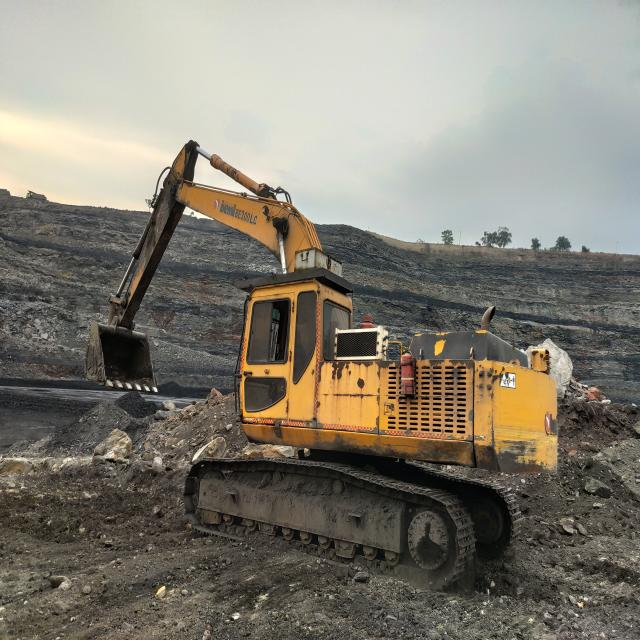excavator: (86, 142, 575, 592)
